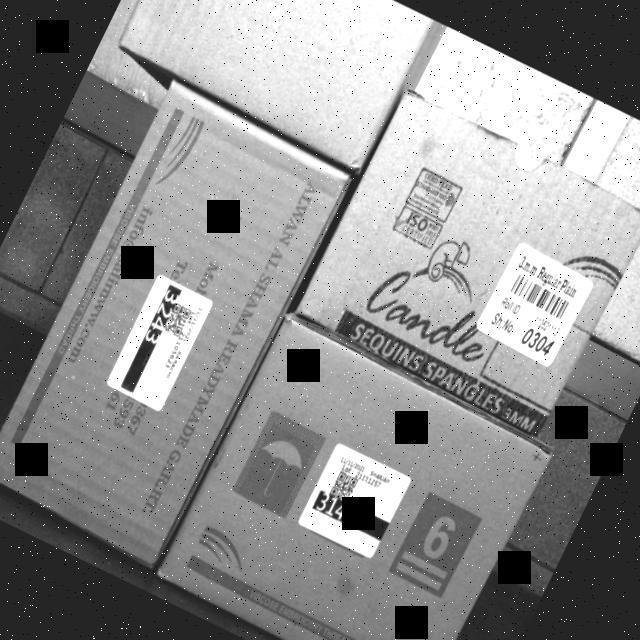box: (0, 76, 346, 573), (147, 307, 555, 640), (294, 86, 640, 439), (111, 0, 434, 178)
